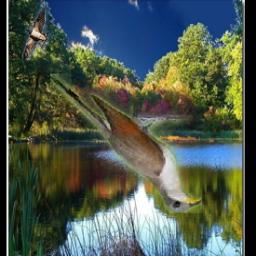Cuckoo: (51, 74, 203, 213)
Swallow: (22, 7, 54, 61)
